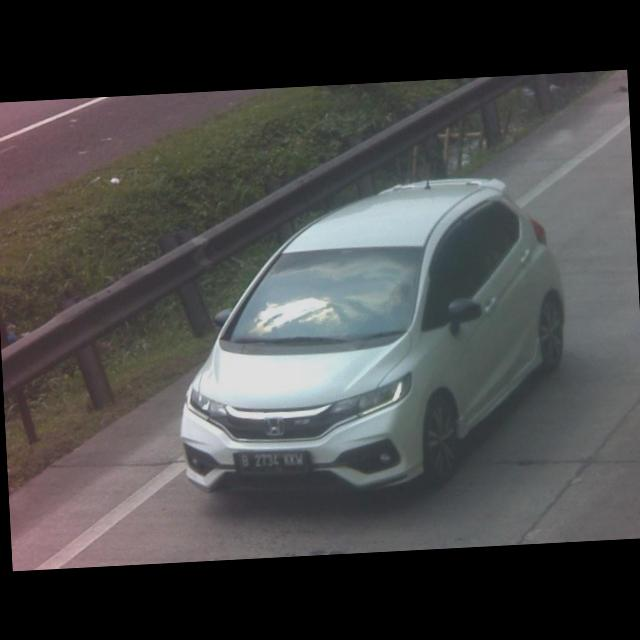plate: (230, 446, 307, 476)
